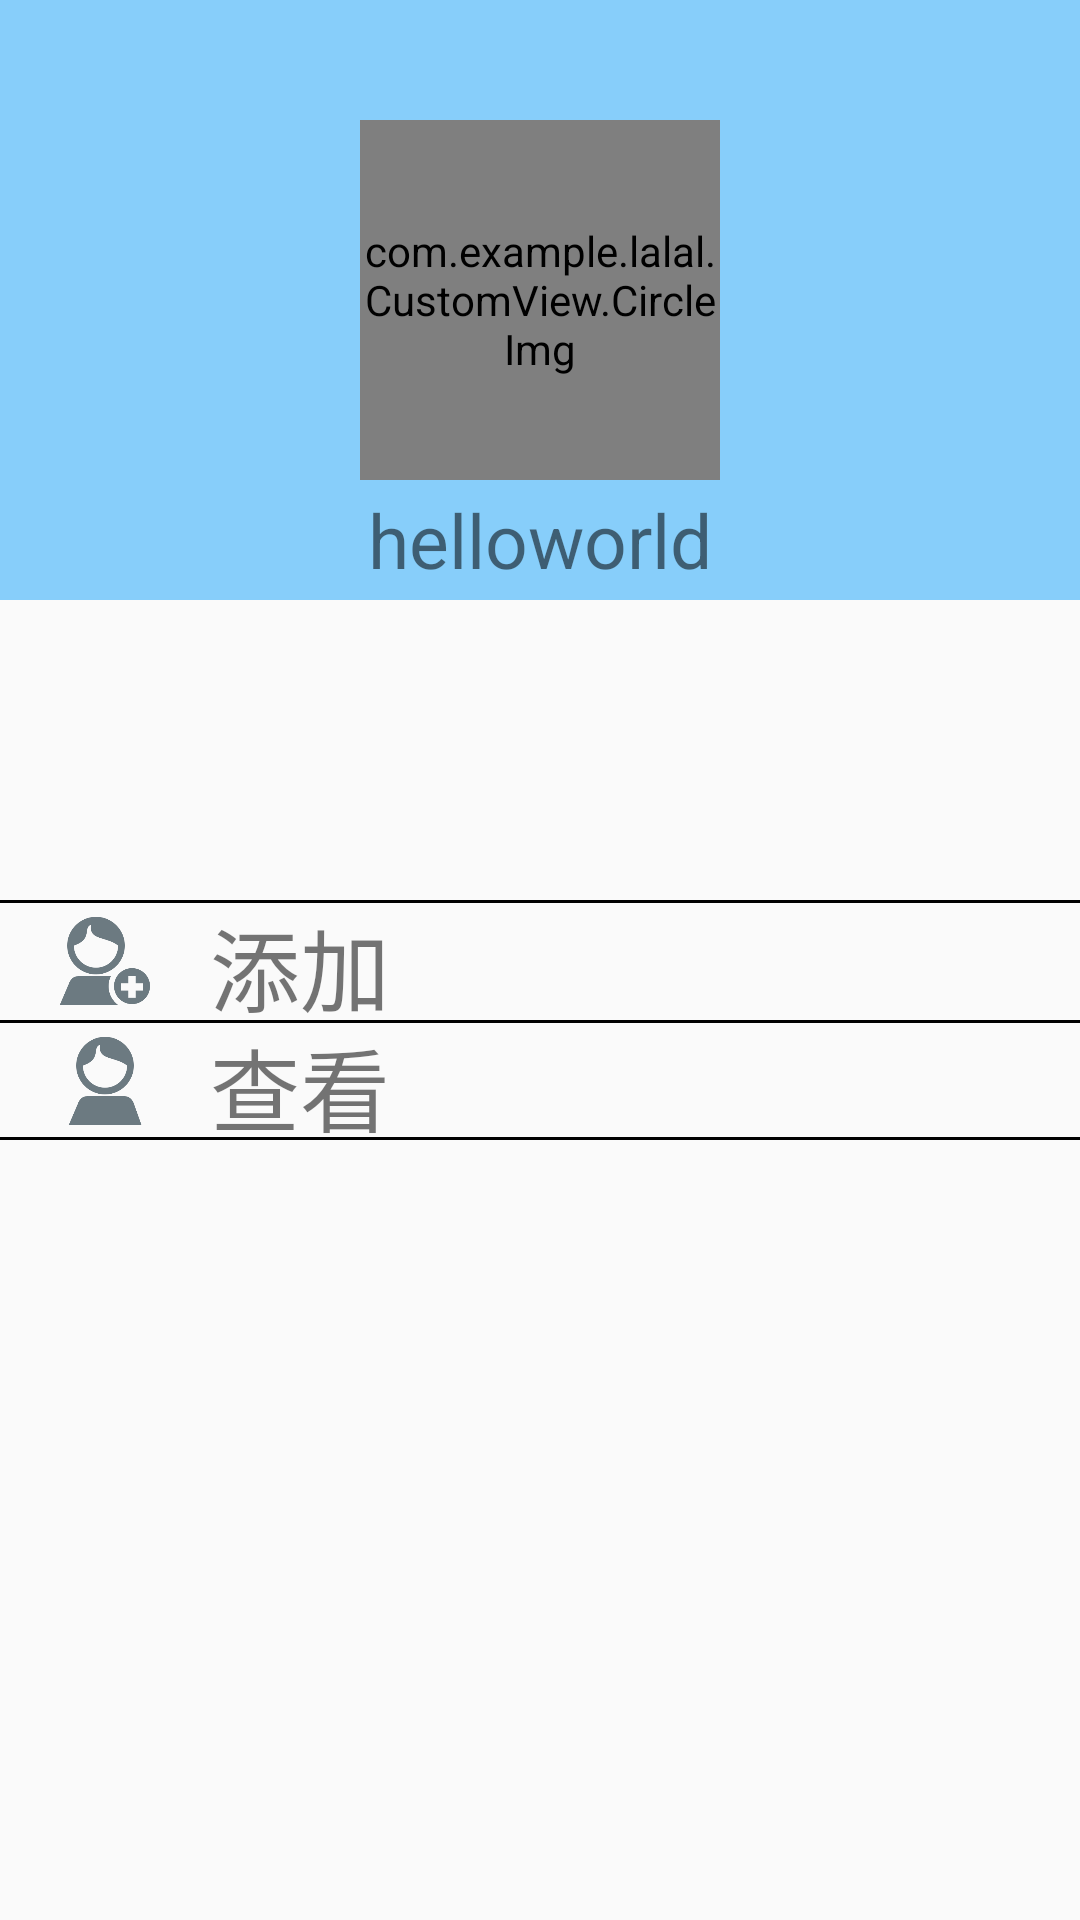

Screen size 1080px x 1920px. Icon name, then its center in pixels as (x=x, y=y):
addfriend: (x=105, y=961)
showfriend: (x=105, y=1081)
